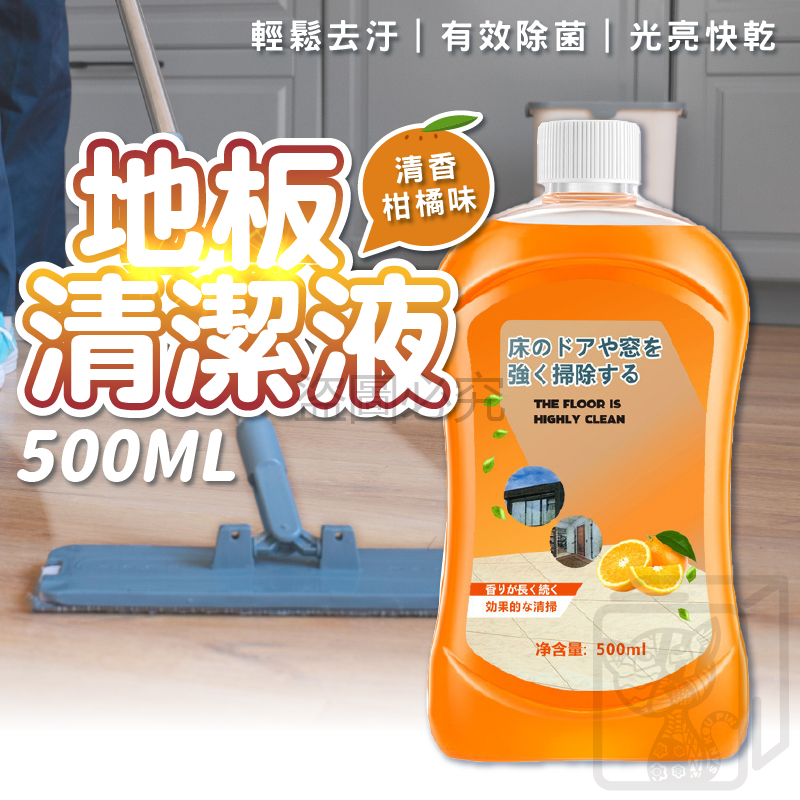cleaner: (422, 113, 783, 790)
